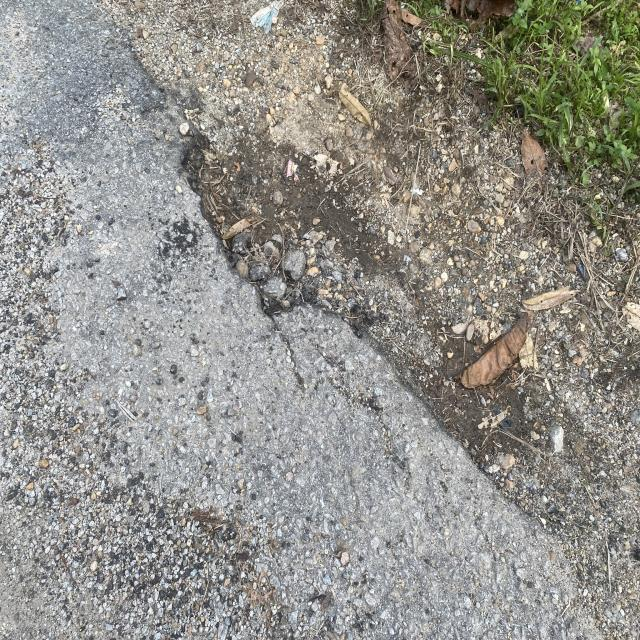Pothole: (152, 89, 354, 354)
